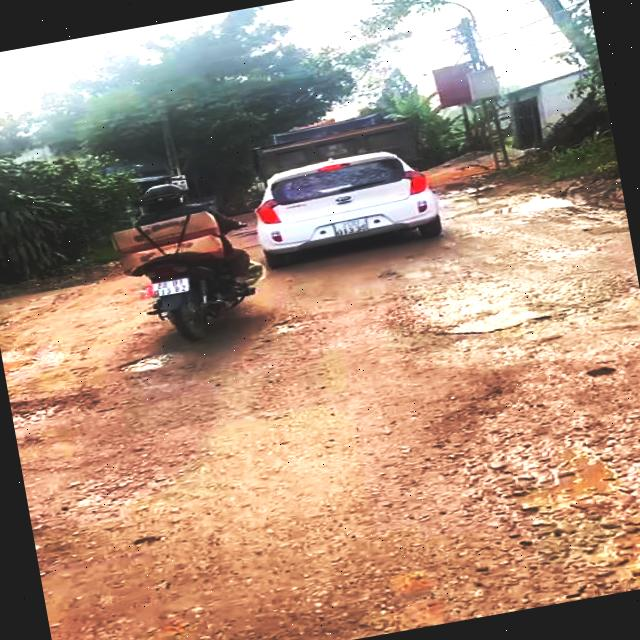pothole: (433, 361, 640, 618), (22, 438, 226, 576), (390, 263, 636, 352), (10, 382, 111, 433), (118, 347, 182, 373), (0, 342, 46, 377), (270, 314, 326, 336)
